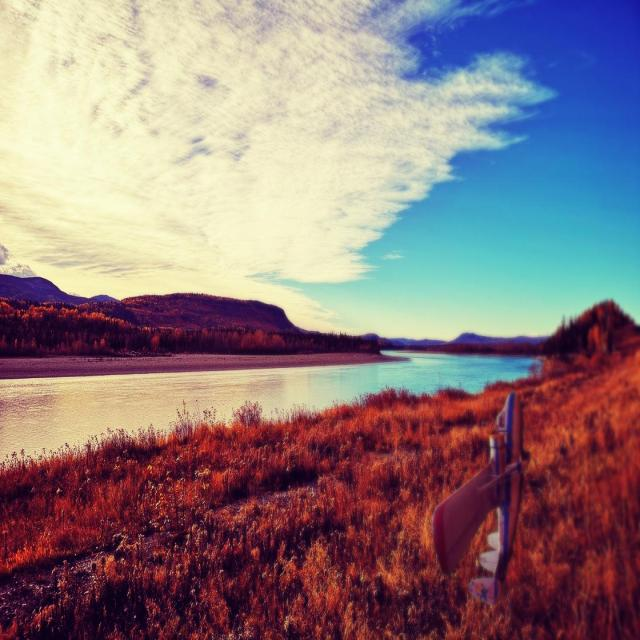airplane: (431, 390, 530, 605)
